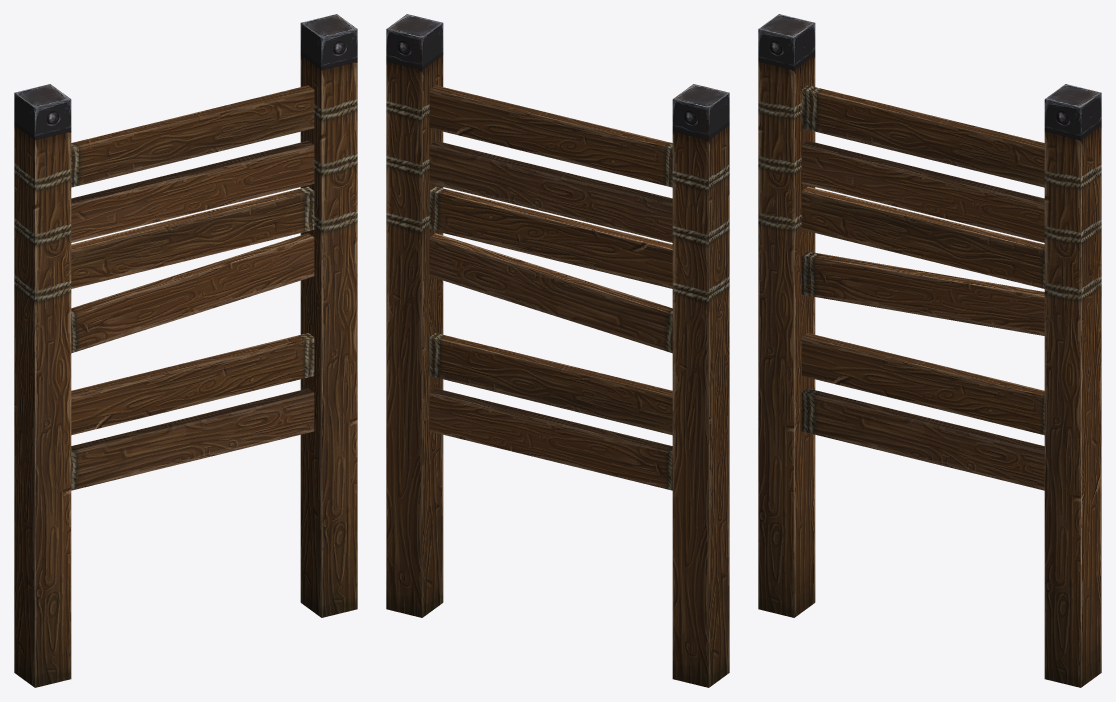
File: Barrier4.fbx
3 views of the same model, side by side, from view 1: azimuth 30°, elevation 25°; view 2: azimuth 150°, elevation 25°; view 3: azimuth 330°, elevation 25° (orthographic).
Visible parts, largest first — view 1: polySurface560; view 2: polySurface560; view 3: polySurface560.
Part boxes in pixels (x1,y1,x2,y2): polySurface560: (14, 14, 357, 687); polySurface560: (386, 14, 729, 687); polySurface560: (758, 14, 1101, 687).
Bounding box in the file's own units: 2.67 × 4.58 × 0.2985.
Materials: 1 (1 with a texture image).
